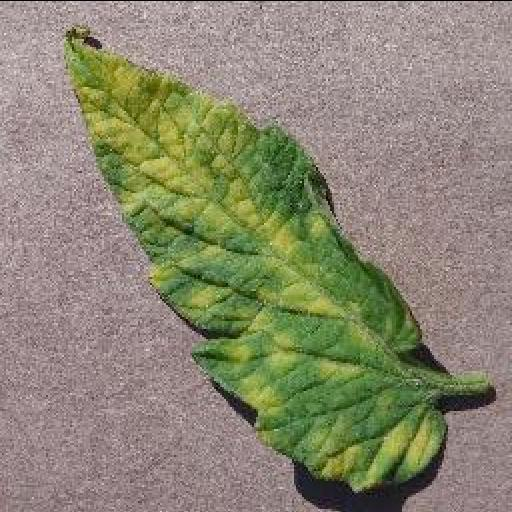disease_tomato: (65, 26, 447, 488)
